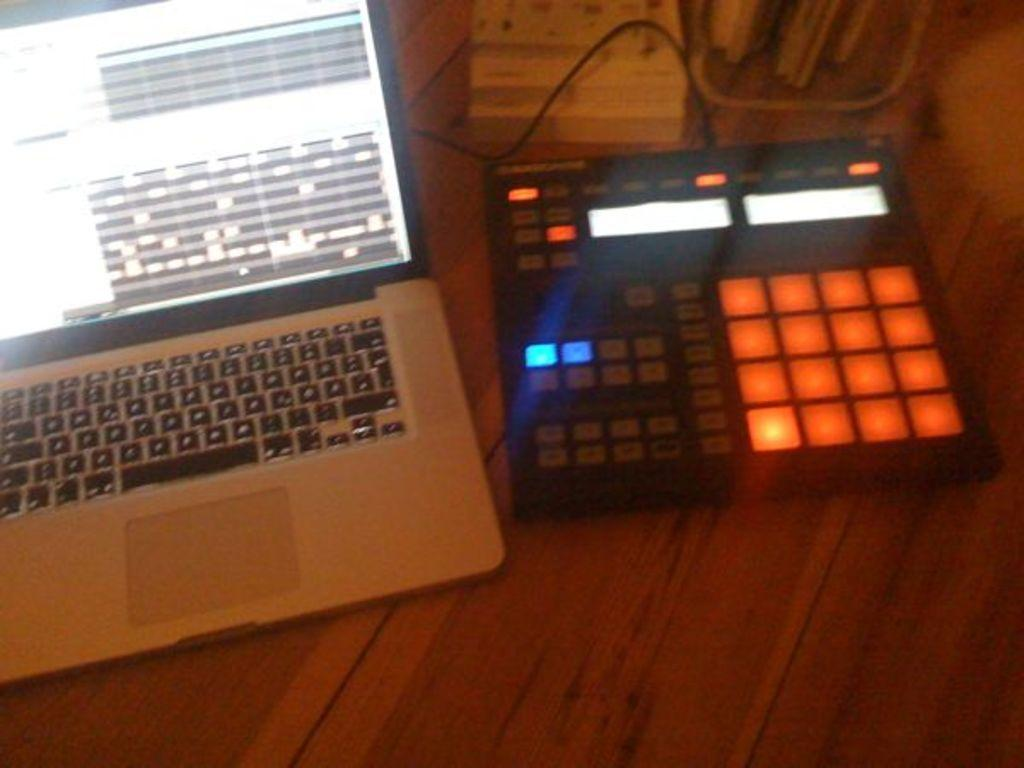Computer-keyboard: (2, 312, 406, 519)
